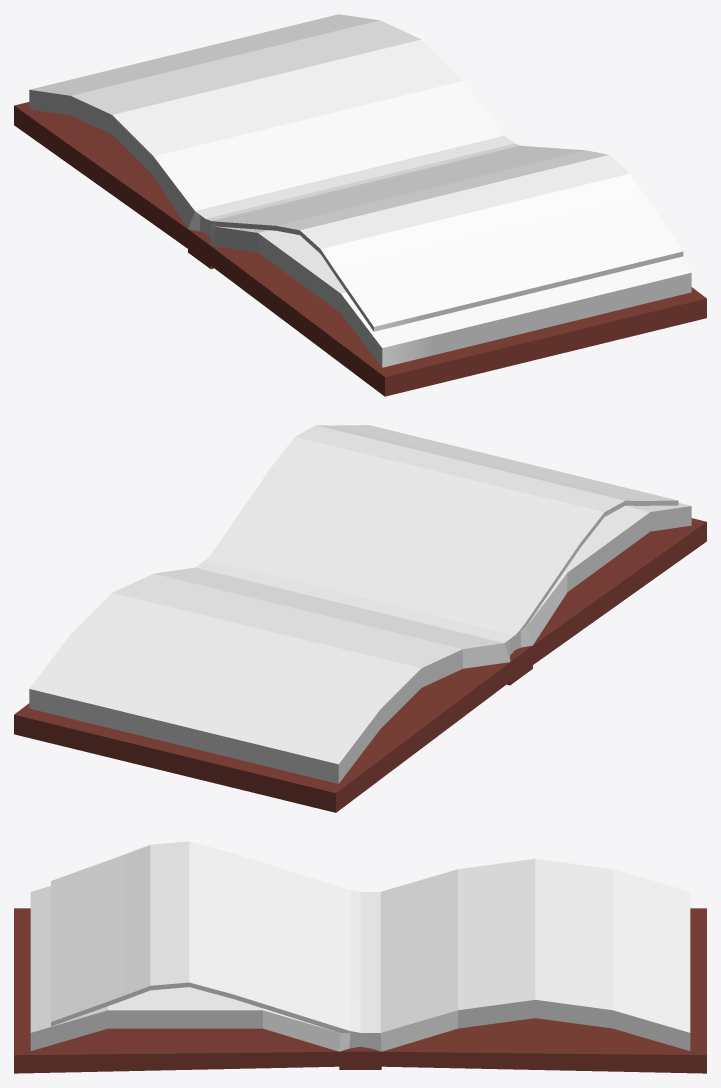
File: bookopen02.obj
The picture shows the model from 3 angles, top to bottom: view 1: azimuth 30°, elevation 25°; view 2: azimuth 150°, elevation 25°; view 3: azimuth 270°, elevation 25°; orthographic projection. The views are drawn at different scales.
Parts seen in each view (by area): view 1: Cube_Cube.001; view 2: Cube_Cube.001; view 3: Cube_Cube.001.
Part boxes in pixels (box(x1,y1,x2,y2)): Cube_Cube.001: box(14, 14, 706, 396); Cube_Cube.001: box(14, 425, 706, 812); Cube_Cube.001: box(14, 841, 706, 1073).
Bounding box in the file's own units: 0.172 × 0.0488 × 0.343.
